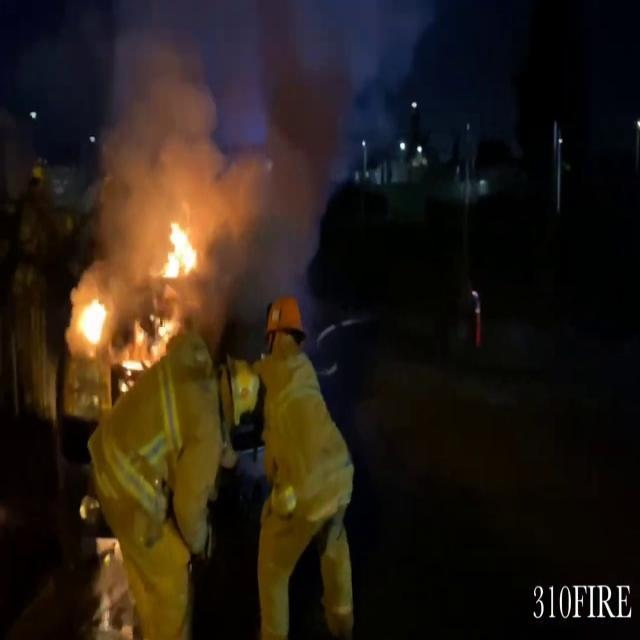Fire: (120, 305, 184, 382), (156, 213, 204, 288), (75, 291, 112, 354)
Smoke: (74, 4, 380, 258)
